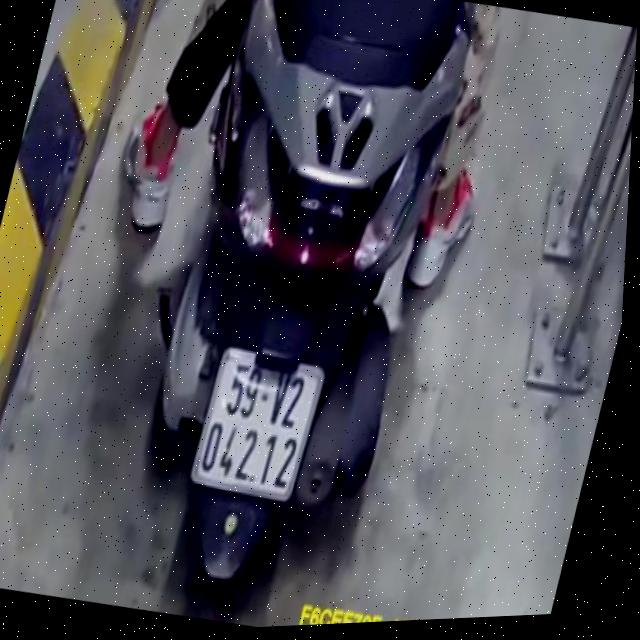motorcycle: (69, 0, 503, 635)
plate: (180, 336, 339, 511)
